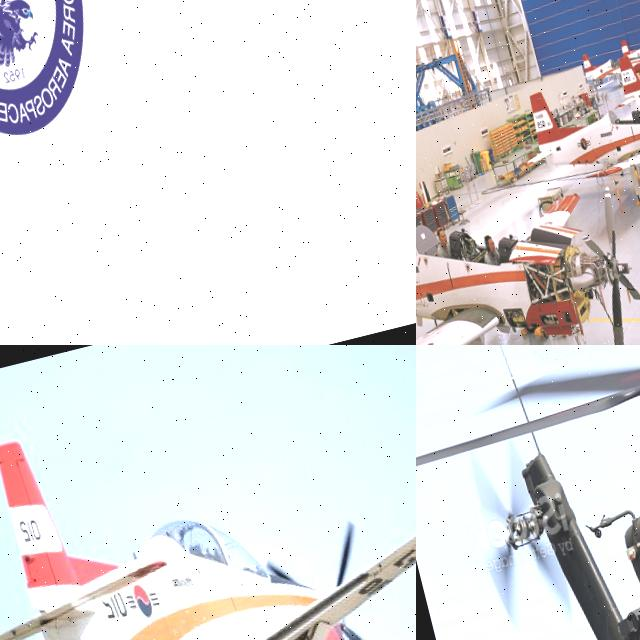Apache: (416, 345, 640, 640)
KAU_Marker: (0, 0, 111, 150)
KT-1: (0, 345, 416, 640), (416, 113, 640, 345), (523, 47, 640, 221)
